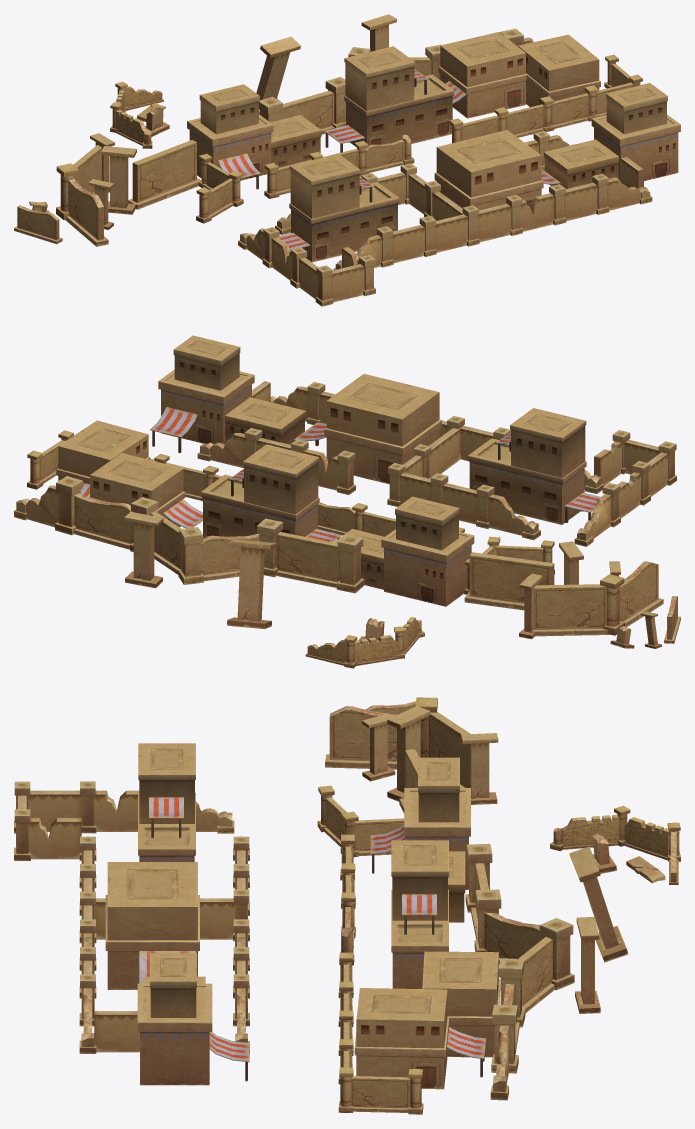
Rendered from qiangmian_03.fbx.
The picture shows the model from 3 angles, top to bottom: view 1: azimuth 30°, elevation 25°; view 2: azimuth 150°, elevation 25°; view 3: azimuth 270°, elevation 25°; orthographic projection. The views are drawn at different scales.
Parts seen in each view (by area): view 1: qiangmian_03; view 2: qiangmian_03; view 3: qiangmian_03.
Part boxes in pixels (box(x1,y1,x2,y2)): qiangmian_03: box(14, 14, 680, 306); qiangmian_03: box(14, 335, 680, 668); qiangmian_03: box(14, 697, 680, 1114).
Size of the model in its own units: 9921 by 1486 by 7275.
Materials: 1 (1 with a texture image).
